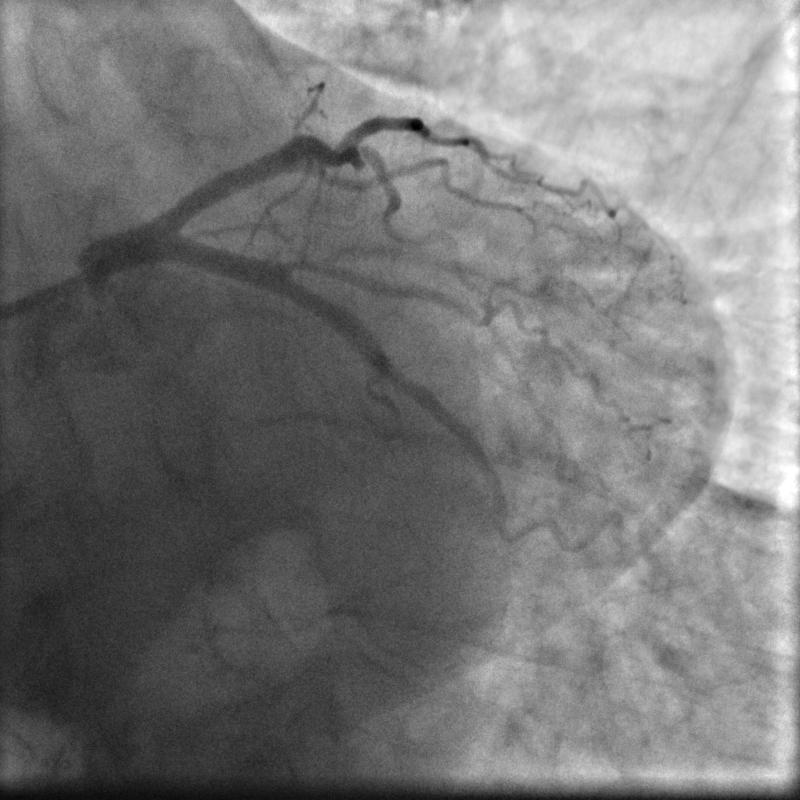Stenosis: (381, 344, 421, 411)
